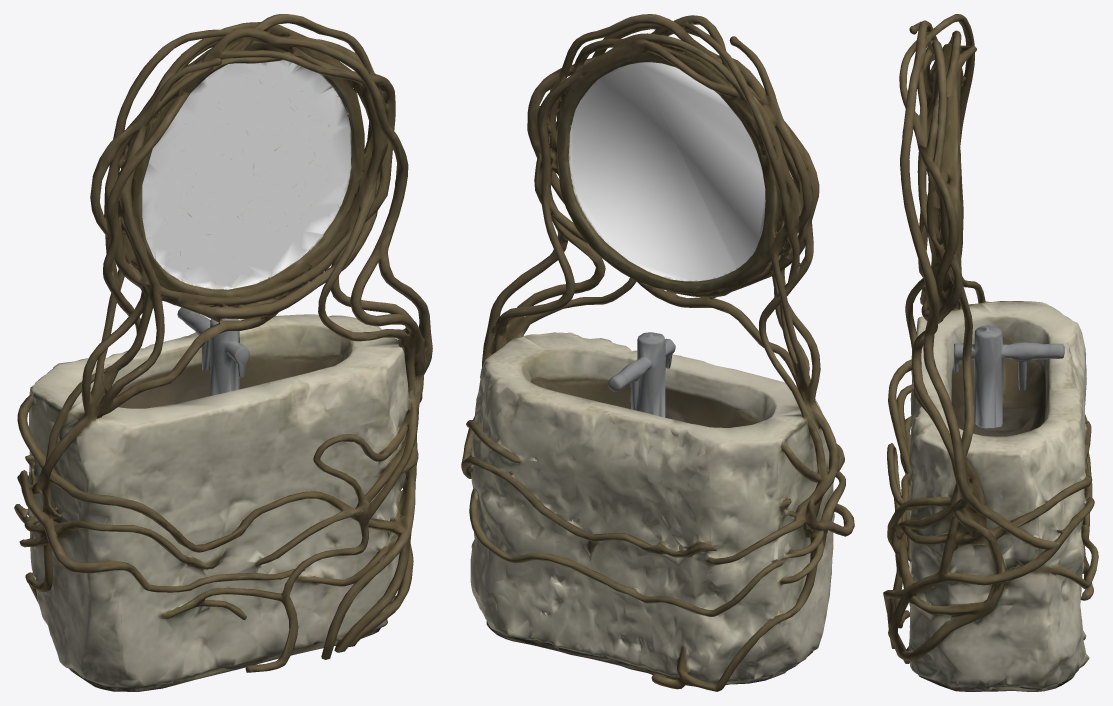
The model's file is rough-stone-basin.glb.
3 views of the same model, side by side, from view 1: azimuth 30°, elevation 25°; view 2: azimuth 150°, elevation 25°; view 3: azimuth 270°, elevation 25° (orthographic). The views are drawn at different scales.
Parts seen in each view (by area): view 1: world; view 2: world; view 3: world.
Part boxes in pixels (x1,y1,x2,y2): world: (14,14,432,691); world: (461,14,854,691); world: (883,14,1098,691).
Bounding box in the file's own units: 0.6319 × 1 × 0.3292.
Materials: 1 (1 with a texture image).
